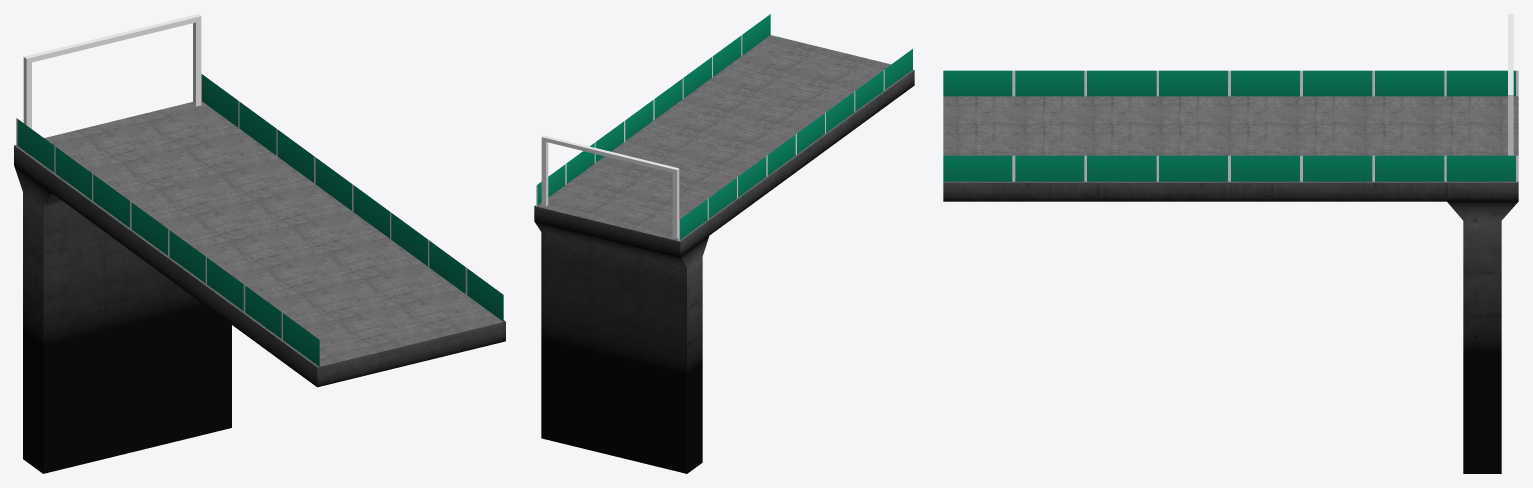
The model's file is AMB_RAIL_KOUJI.glb.
The picture shows the model from 3 angles, left to right: view 1: azimuth 30°, elevation 25°; view 2: azimuth 150°, elevation 25°; view 3: azimuth 270°, elevation 25°; orthographic projection. The views are drawn at different scales.
Parts seen in each view (by area): view 1: obj1; view 2: obj1; view 3: obj1.
Boxes of the visible parts, x1,y1,x2,y2 form: obj1: [14, 14, 505, 473]; obj1: [534, 14, 914, 473]; obj1: [943, 14, 1518, 473].
Size of the model in its own units: 35.91 by 72.07 by 100.
Materials: 3 (3 with a texture image).
